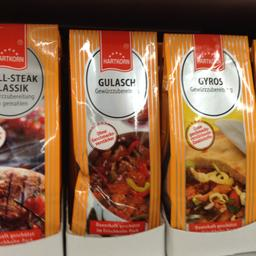spices: (68, 28, 158, 236), (161, 32, 255, 231), (0, 22, 62, 244)
